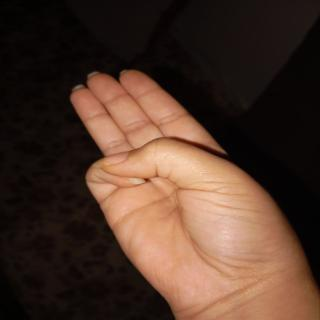THA: (58, 64, 320, 320)
